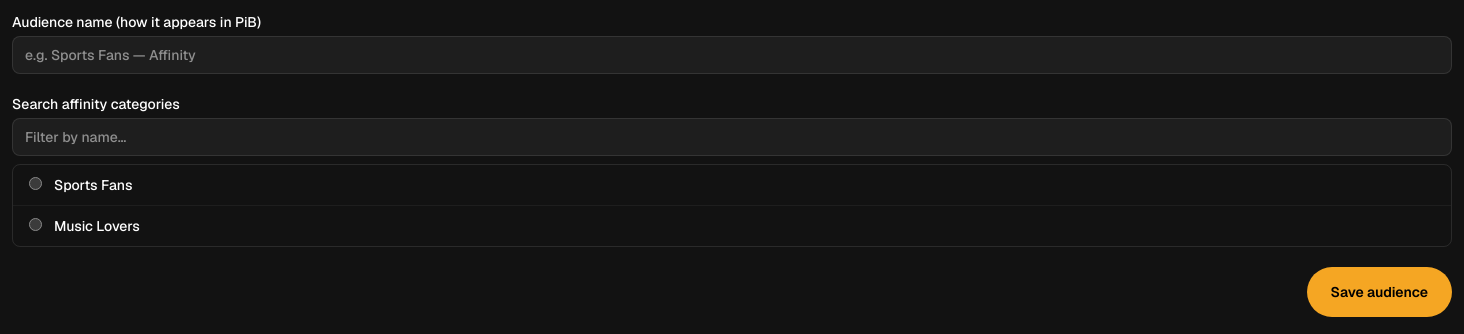
Test: AffinityPicker › filters the audience list by search input
Expected: the radio button labelled "Sports Fans" is shown, [29,177,42,190]
Type "sports" into the field labelled "Search affinity categories" at (732, 137), box [12,118,1452,156]
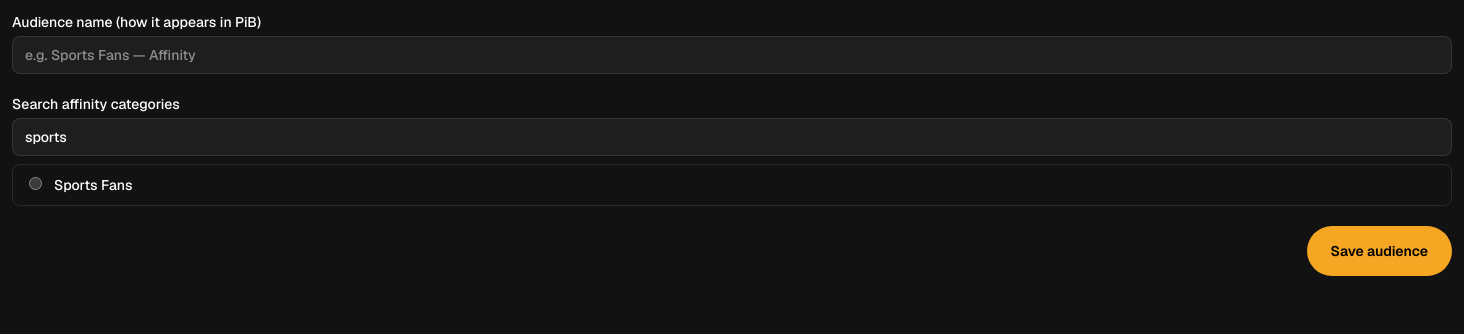
Expected: the radio button labelled "Sports Fans" is shown, [29,177,42,190]
Now the text labelled "Music Lovers" is gone
